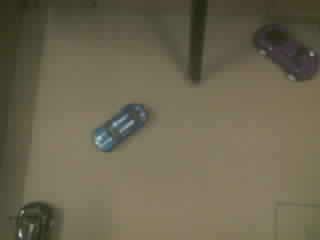Car: (255, 25, 318, 79), (95, 104, 147, 151), (17, 202, 51, 239)
